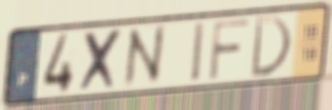4: (40, 31, 75, 96)
D: (248, 14, 294, 80)
F: (206, 17, 252, 83)
I: (190, 20, 207, 85)
N: (122, 22, 167, 92)
X: (77, 26, 127, 94)
